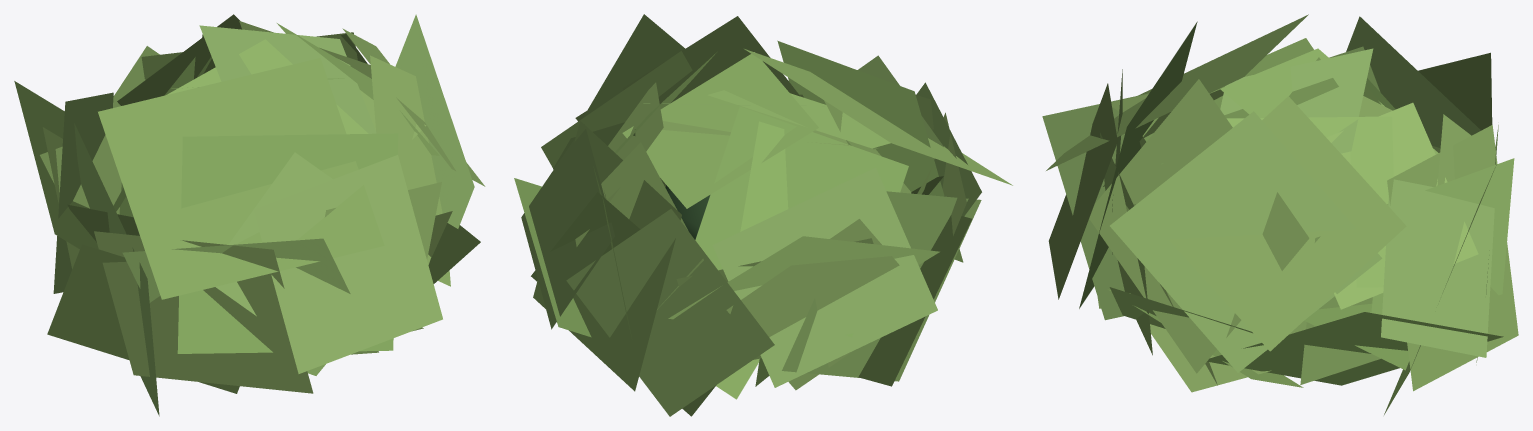
The model's file is bush_0.glb.
The picture shows the model from 3 angles, left to right: view 1: azimuth 30°, elevation 25°; view 2: azimuth 150°, elevation 25°; view 3: azimuth 270°, elevation 25°; orthographic projection. The views are drawn at different scales.
Parts seen in each view (by area): view 1: Bush; view 2: Bush; view 3: Bush.
Part boxes in pixels (x1,y1,x2,y2): Bush: (14,14,485,416); Bush: (514,14,1012,416); Bush: (1042,14,1518,414).
Size of the model in its own units: 1.48 by 1.18 by 1.4.
